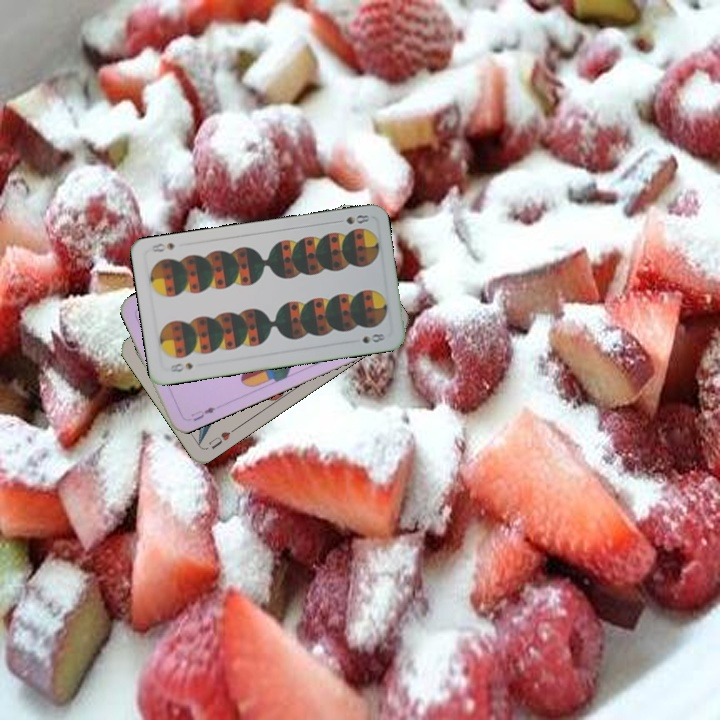EU: (187, 403, 218, 424)
HU: (204, 424, 238, 452)
S8: (331, 211, 372, 227), (165, 359, 196, 375)
